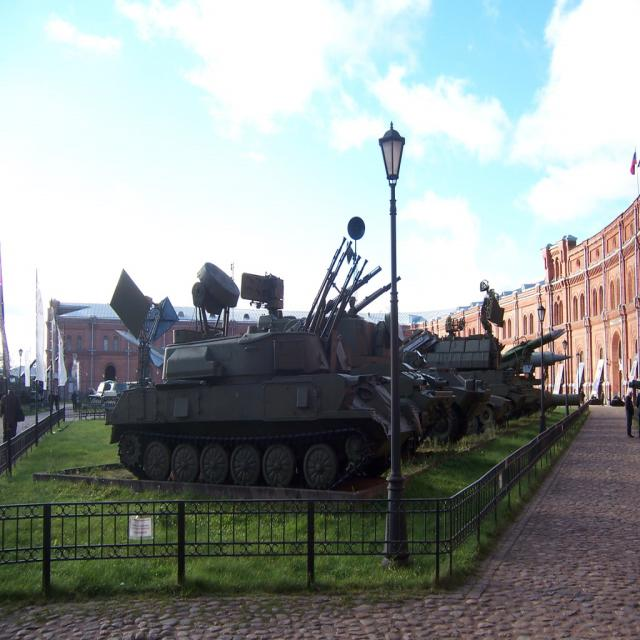tank: (104, 236, 488, 490)
